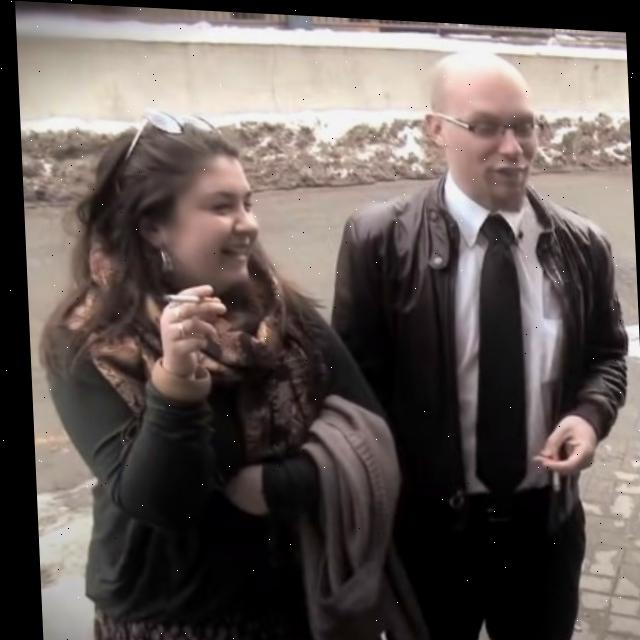cigarette: (158, 292, 218, 302), (547, 438, 556, 488)
